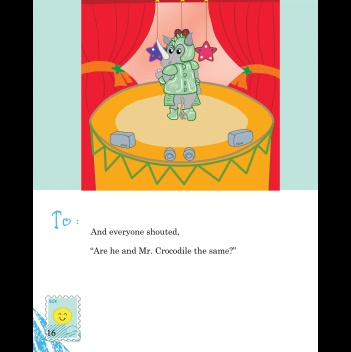latin: (85, 243, 238, 256), (88, 224, 182, 236)
